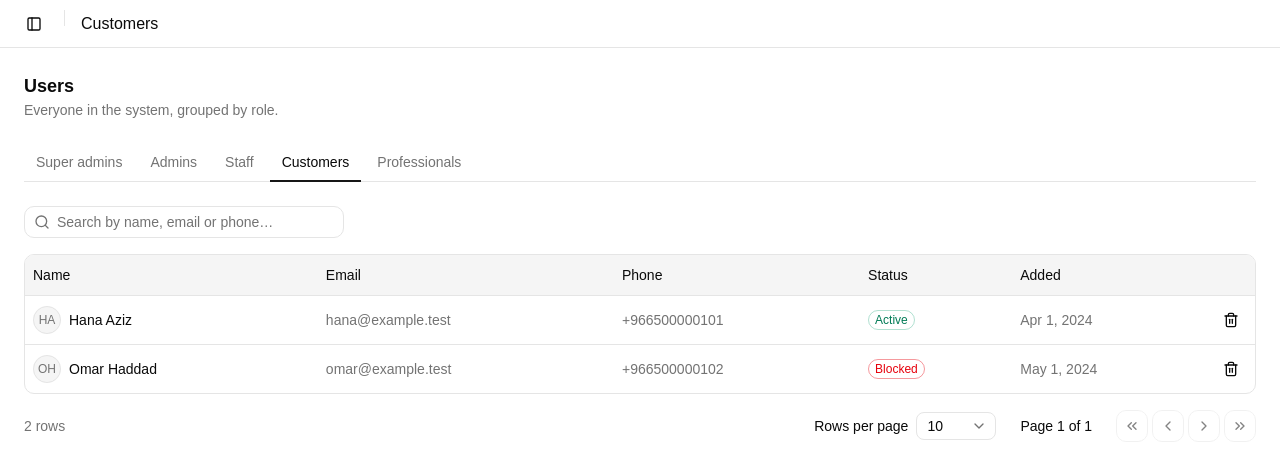
Test case: users segments › filters by search
Expected: the text "Omar Haddad" is shown, [69, 358, 157, 378]
Type "hana" into the search field at [184, 222], box [24, 206, 344, 238]
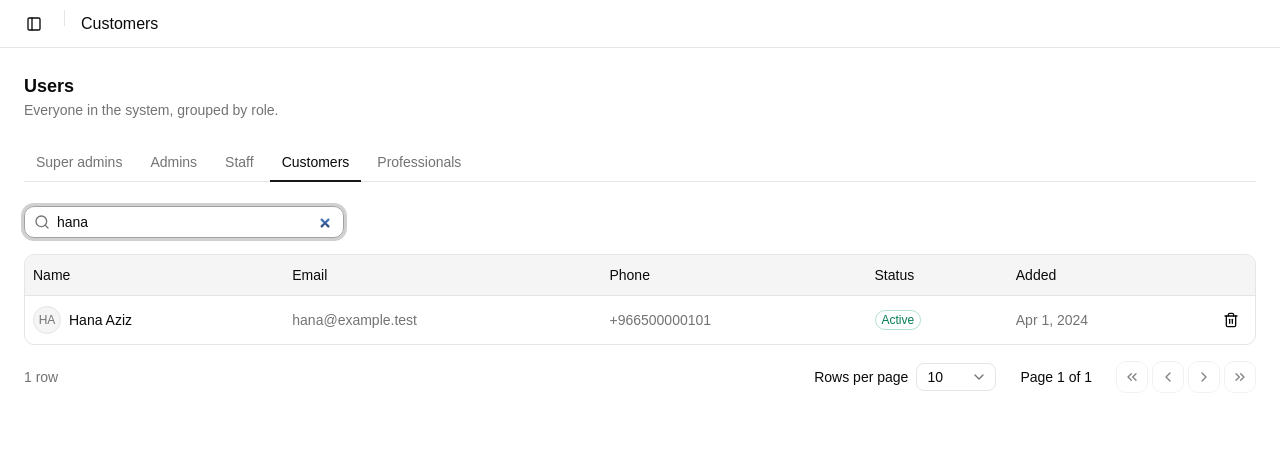
Expected: the text "Hana Aziz" is shown, [69, 310, 132, 330]
Expected: the button "Omar Haddad" is gone
